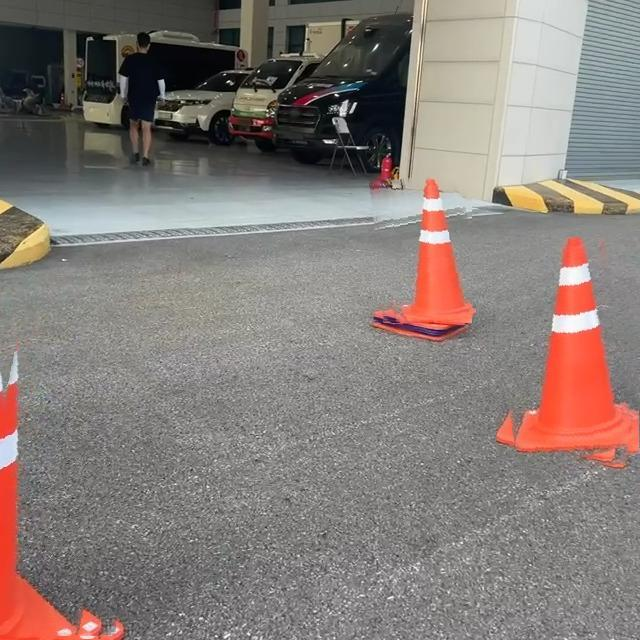fallen_object: (494, 196, 640, 577), (306, 167, 493, 352)
